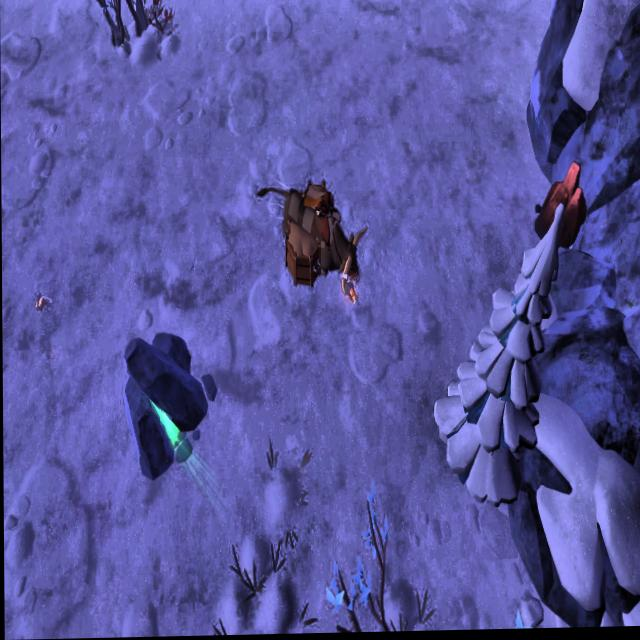rock_t5: (532, 163, 589, 253)
